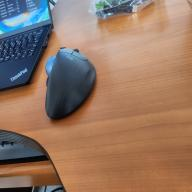Mouse: (44, 45, 96, 120)
